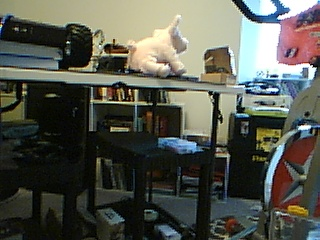piggy: (126, 14, 190, 78)
